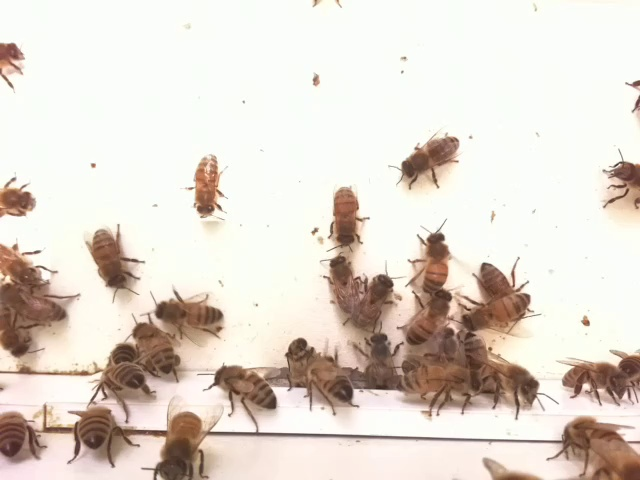bee: (195, 355, 294, 435), (148, 394, 226, 480), (398, 354, 489, 423), (77, 226, 153, 303), (61, 398, 144, 468), (386, 130, 478, 193), (558, 411, 639, 480), (472, 360, 553, 417), (146, 290, 233, 339), (320, 179, 375, 255), (555, 351, 631, 405), (450, 290, 539, 336), (183, 150, 235, 228), (354, 322, 406, 397), (301, 358, 364, 419), (125, 313, 182, 379), (407, 219, 459, 290), (1, 282, 86, 325), (1, 235, 65, 289), (1, 399, 55, 463), (598, 139, 640, 220), (404, 284, 457, 348), (355, 267, 404, 334), (467, 253, 526, 303), (87, 360, 155, 403), (1, 303, 52, 360), (315, 249, 363, 299), (278, 332, 322, 371), (1, 178, 42, 218), (1, 33, 30, 86), (454, 326, 491, 364), (105, 336, 139, 370), (616, 340, 640, 388)
